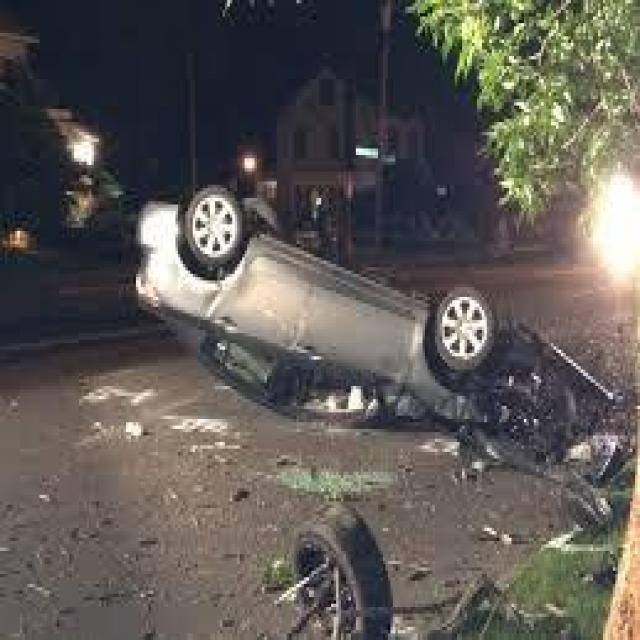accident: (126, 176, 502, 418)
